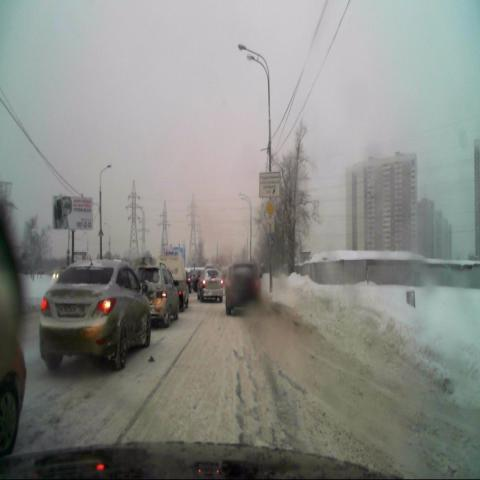2_1: (264, 199, 277, 217)
4_1_4: (266, 232, 275, 250)
